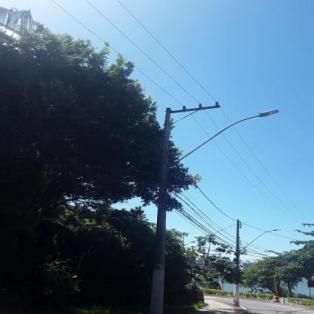Poste: (146, 107, 174, 312), (232, 216, 244, 306)
